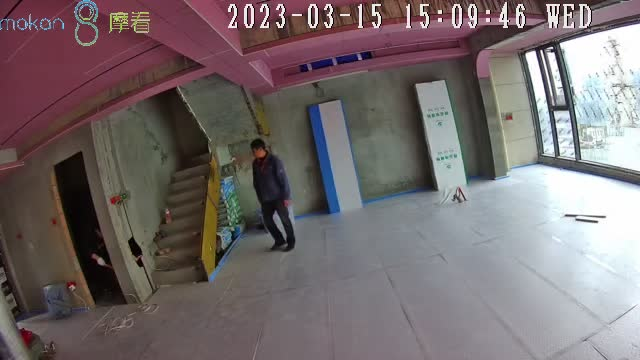people: (249, 138, 295, 253)
window: (519, 22, 640, 175)
